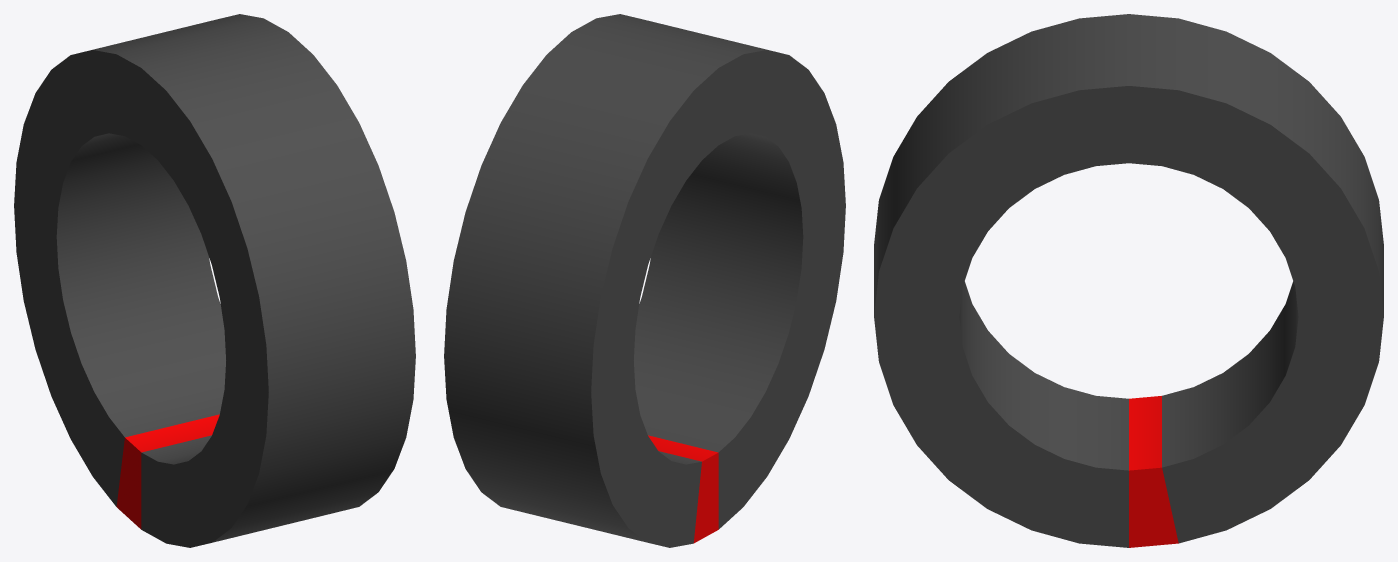
The model's file is Tire.obj.
3 renders of one model, left to right at view 1: azimuth 30°, elevation 25°; view 2: azimuth 150°, elevation 25°; view 3: azimuth 270°, elevation 25°, orthographic.
Visible parts, largest first — view 1: Tire; view 2: Tire; view 3: Tire.
Boxes of the visible parts, box(x1,y1,x2,y2) form: Tire: box(14, 14, 415, 547); Tire: box(444, 14, 845, 547); Tire: box(874, 14, 1383, 547).
Bounding box in the file's own units: 0.2 × 0.6 × 0.6.
